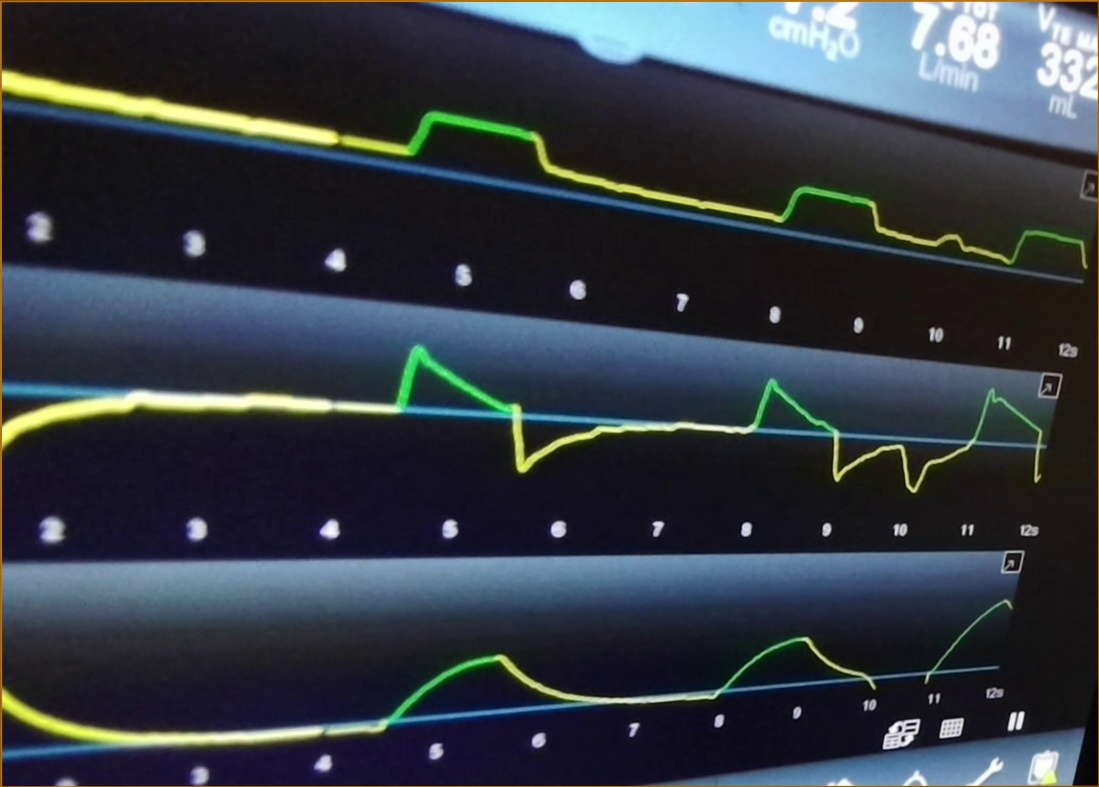Premature_cycling Flow: (2, 342, 1042, 501)
Premature_cycling Volume: (1, 588, 1016, 749)
